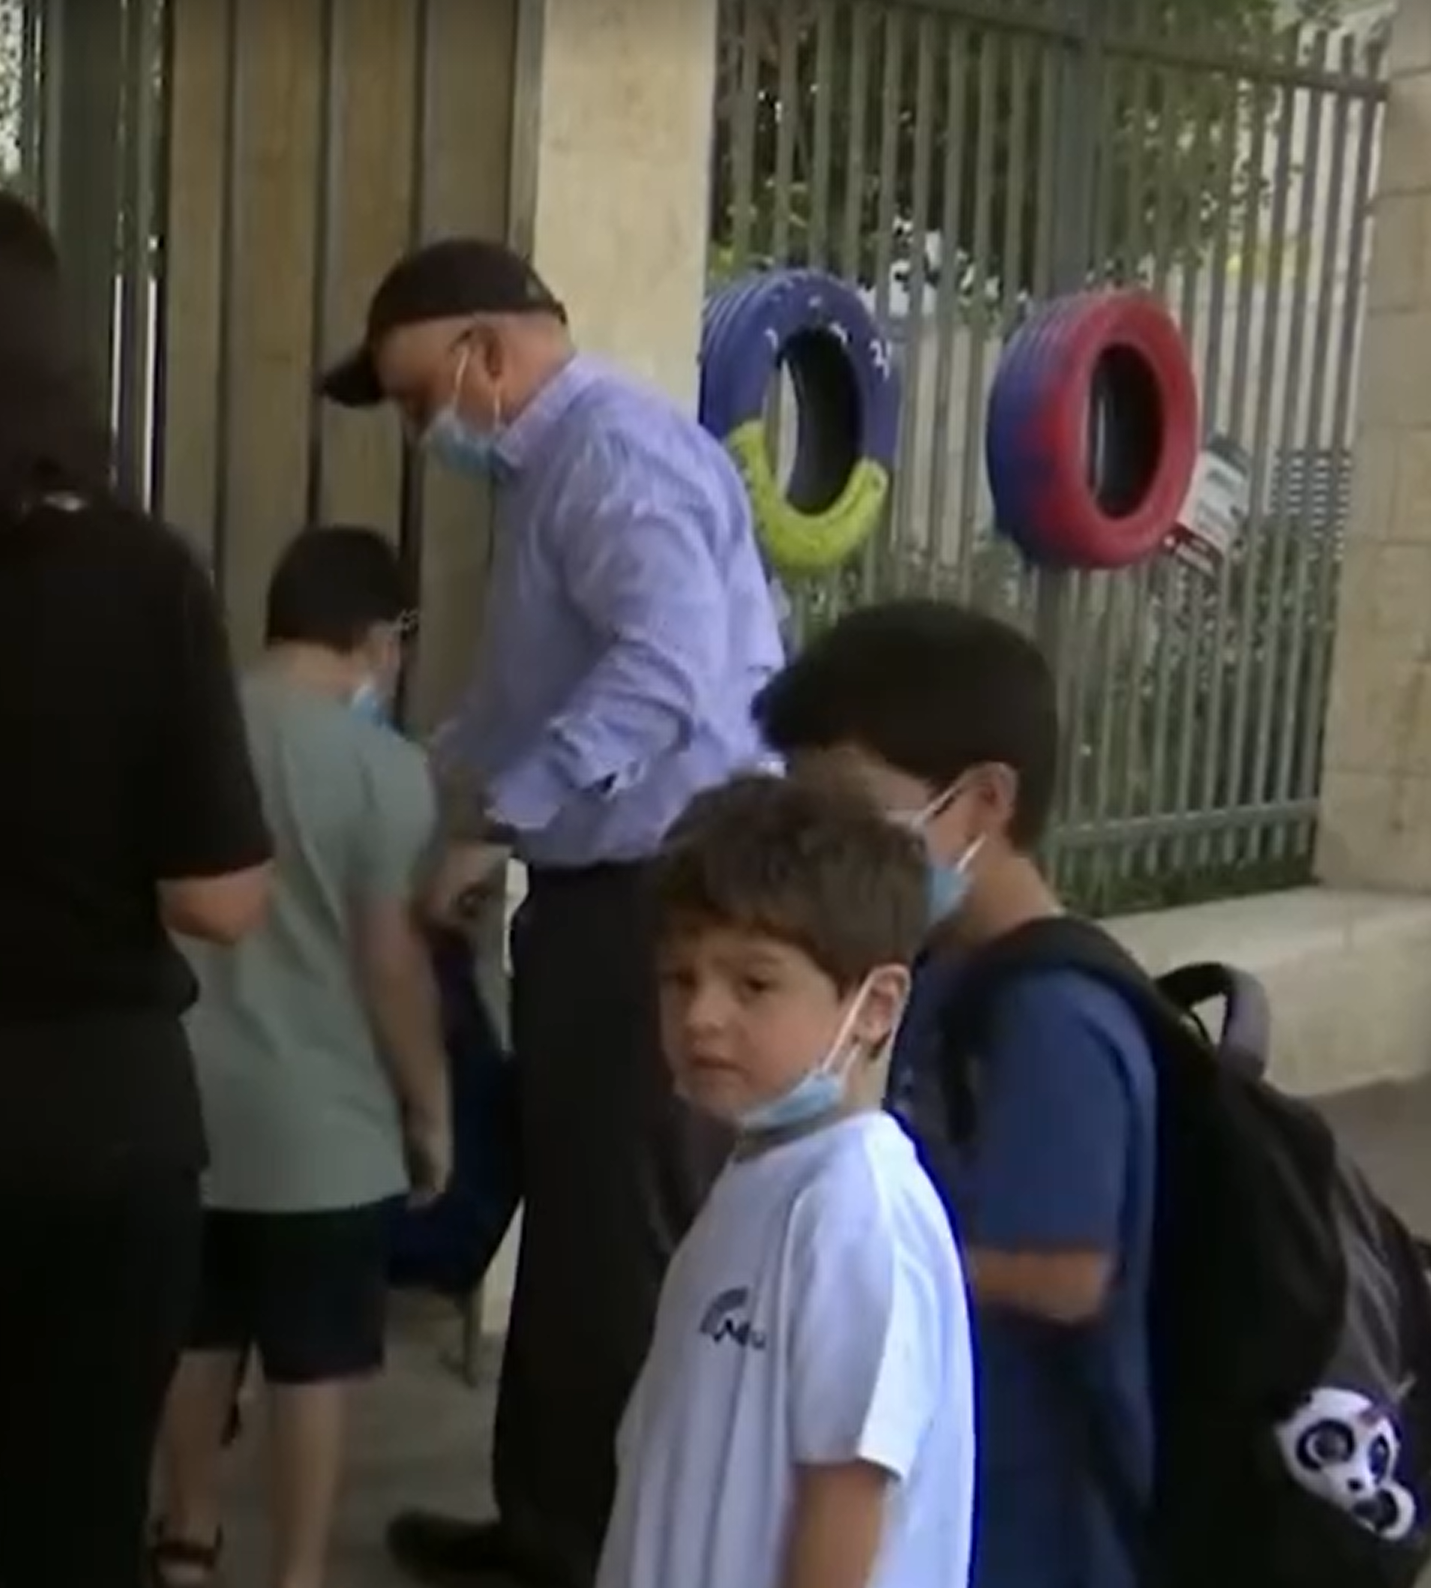mask_weared_incorrect: (632, 831, 918, 1146)
